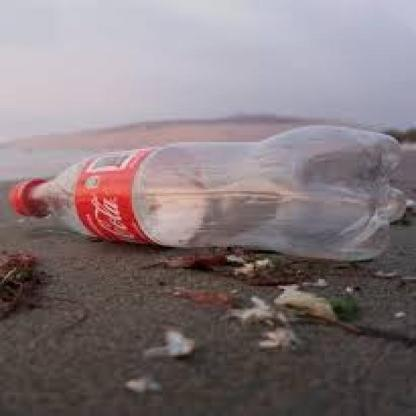Plastic Bottle: (11, 126, 405, 260)
